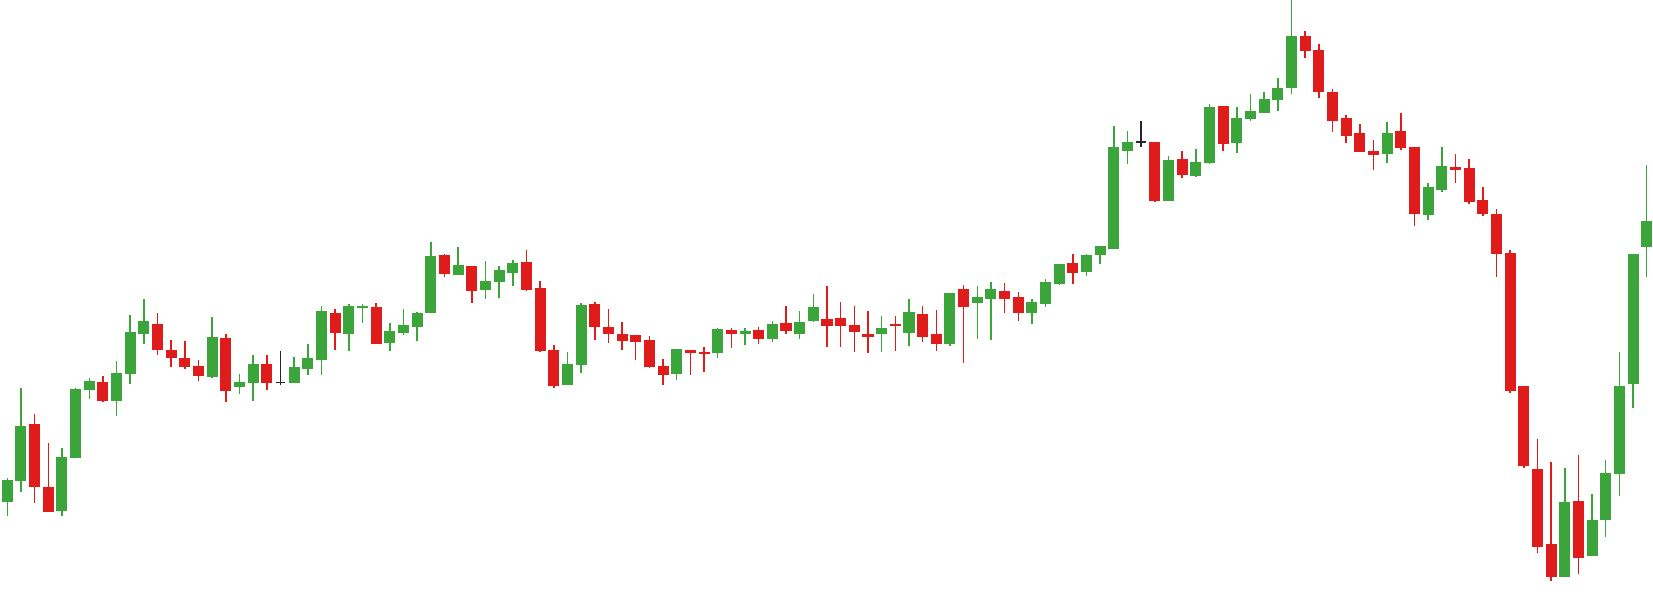buy: (368, 282, 587, 392)
